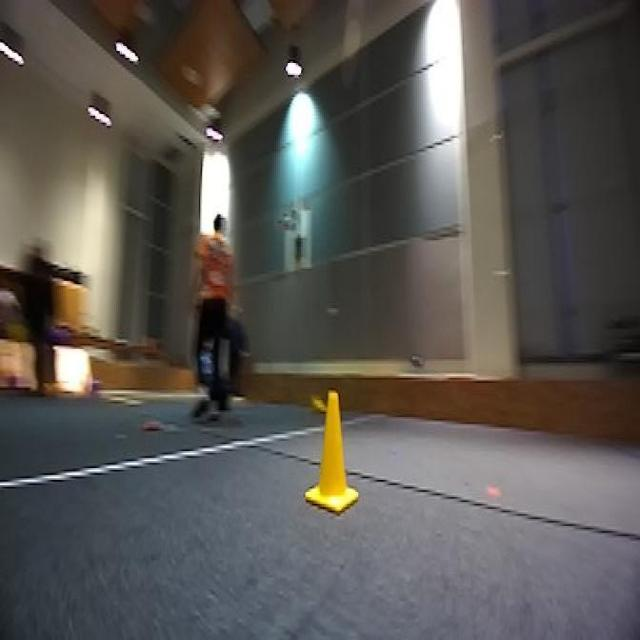frc_cone: (305, 393, 357, 512), (306, 388, 330, 410)
